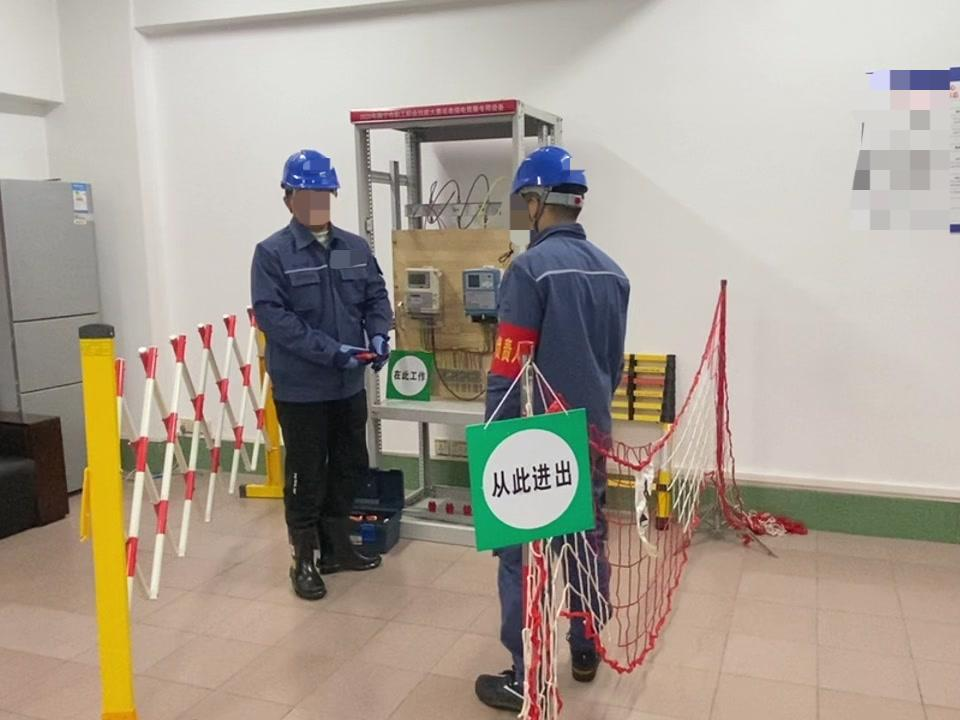halt: (509, 149, 593, 233), (282, 152, 345, 229)
inear: (519, 190, 551, 231)
